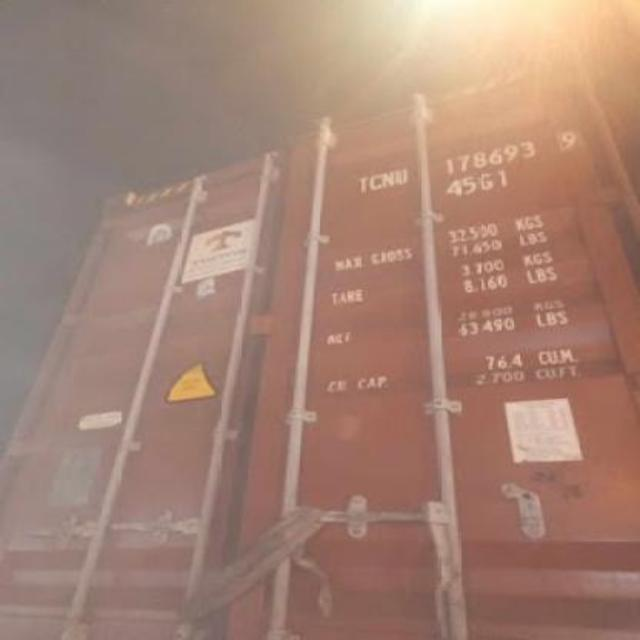1: (444, 157, 456, 177)
3: (518, 139, 536, 159)
6: (486, 147, 504, 165)
7: (454, 154, 472, 170)
8: (472, 152, 486, 168)
9: (502, 143, 520, 161), (560, 130, 576, 150)
C: (368, 174, 380, 190)
N: (380, 172, 396, 186)
T: (356, 177, 369, 193)
U: (396, 170, 408, 183)
